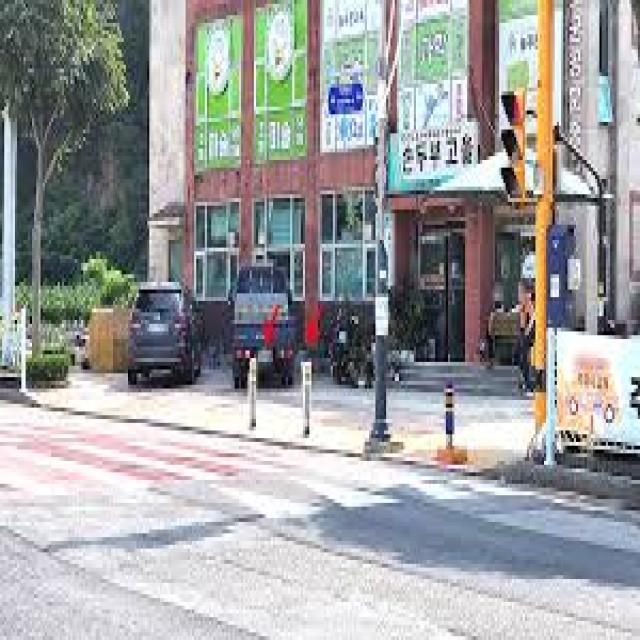bollard: (441, 370, 458, 466), (298, 358, 315, 444), (245, 350, 258, 440)
